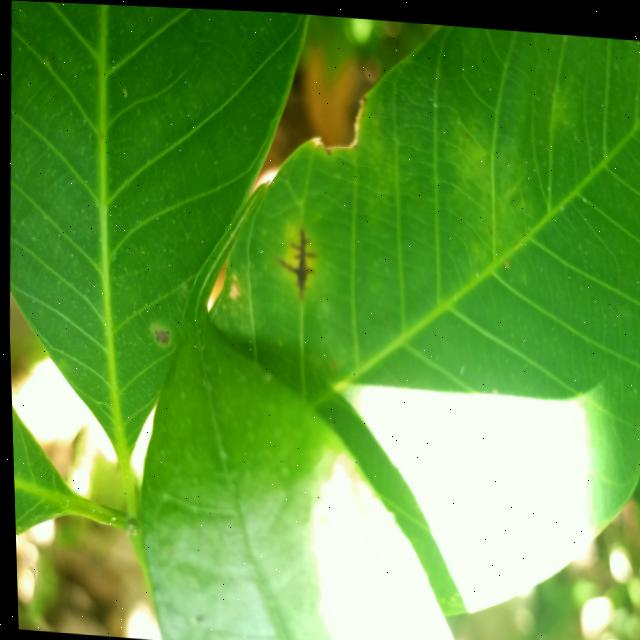Corynespora: (272, 219, 317, 298)
